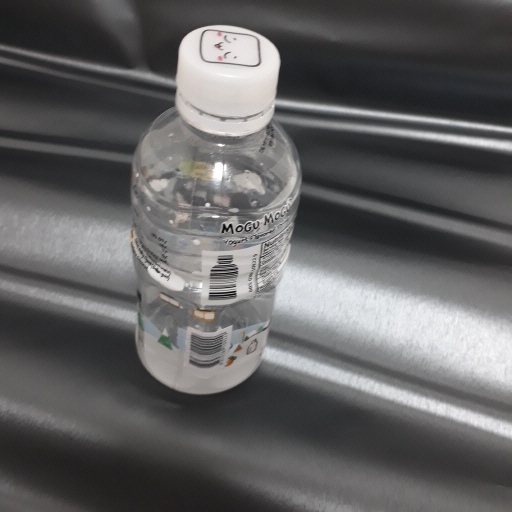Plastic_0: (127, 22, 303, 398)
